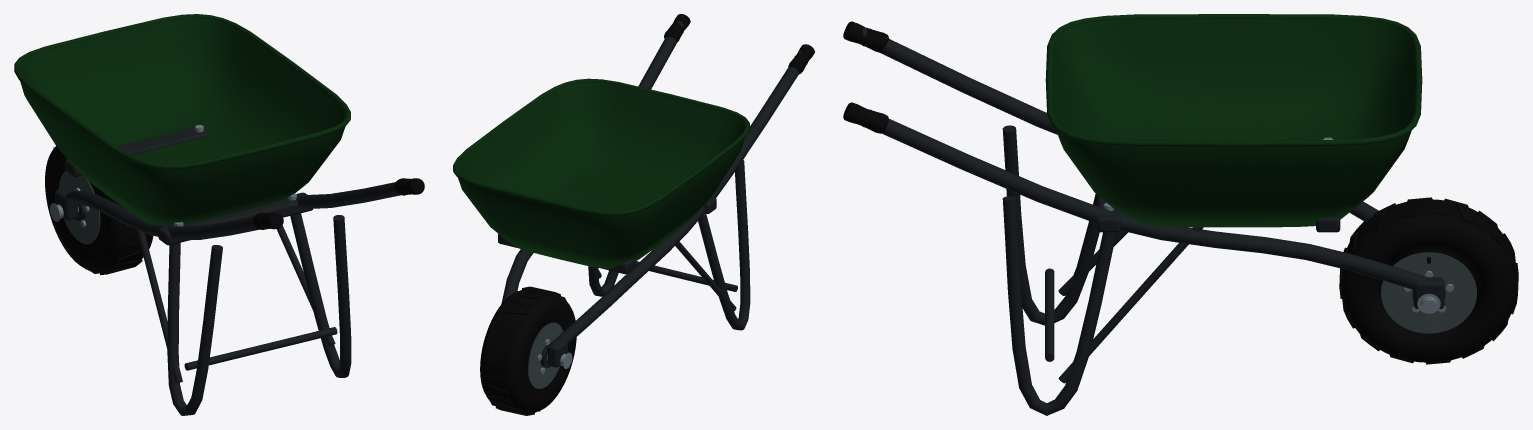
The model's file is SingleWheelbarrow.gltf.
3 renders of one model, left to right at view 1: azimuth 30°, elevation 25°; view 2: azimuth 150°, elevation 25°; view 3: azimuth 270°, elevation 25°, orthographic. The views are drawn at different scales.
Visible parts, largest first — view 1: SingleWheelbarrow__Body, SingleWheelbarrow__Wheel_Front; view 2: SingleWheelbarrow__Body, SingleWheelbarrow__Wheel_Front; view 3: SingleWheelbarrow__Body, SingleWheelbarrow__Wheel_Front.
Boxes of the visible parts, box(x1,y1,x2,y2) form: SingleWheelbarrow__Body: box(14, 14, 424, 415); SingleWheelbarrow__Wheel_Front: box(45, 146, 153, 274); SingleWheelbarrow__Body: box(453, 14, 814, 368); SingleWheelbarrow__Wheel_Front: box(480, 286, 576, 415); SingleWheelbarrow__Body: box(843, 14, 1444, 415); SingleWheelbarrow__Wheel_Front: box(1339, 197, 1518, 364).
Bounding box in the file's own units: 0.672 × 0.7455 × 1.48.
1 material, 1 textured.
